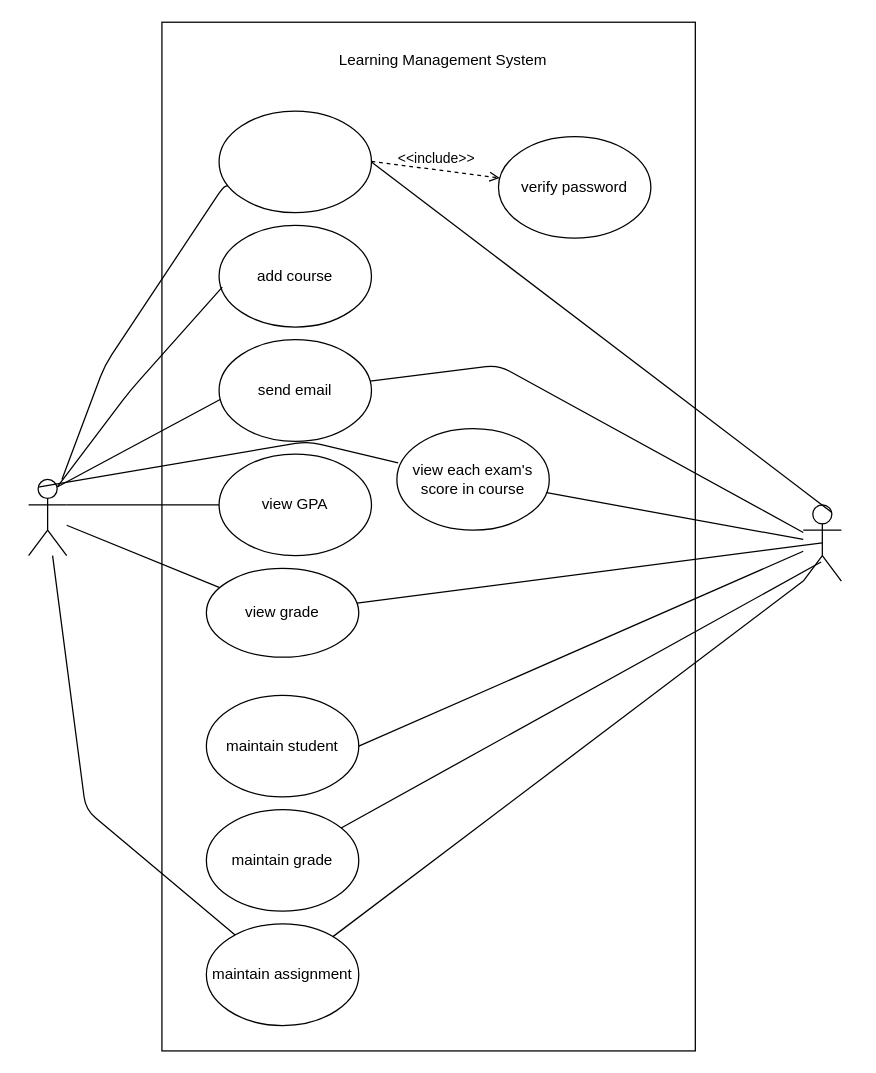
The diagram is 876 pixels wide and 1073 high, and some of its shapes have lost their labels. Each missing label, with the centre of its shape:
"log in" goes at point 294,161.
"Professor" goes at point 821,542.
"Student" goes at point 47,517.
